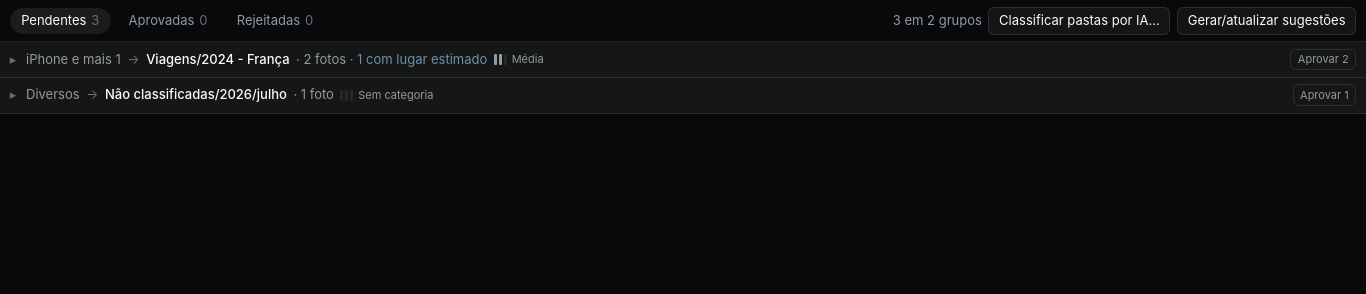
Test: Review › o porquê é buscado só quando o usuário pergunta
This screenshot has width=1366, height=294.
Step 1. Click the text "Viagens/2024 - França" → (218, 59), box [146, 50, 290, 69]
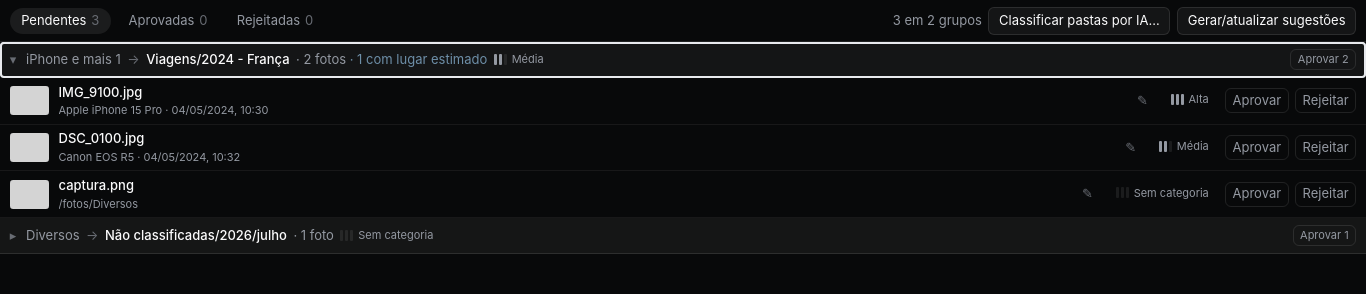
Expected: the text "DSC_0100.jpg" is shown, [58, 129, 144, 149]
Step 2. Click the button titled "Por que este destino para DSC_0100.jpg?" → (1184, 147), box [1152, 136, 1215, 159]
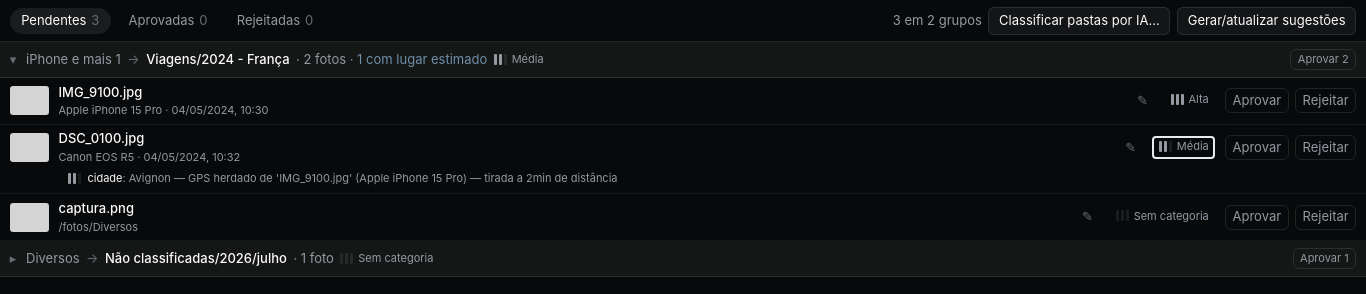
Expected: the text "herdado de 'IMG_9100.jpg'" is shown, [188, 171, 618, 185]
